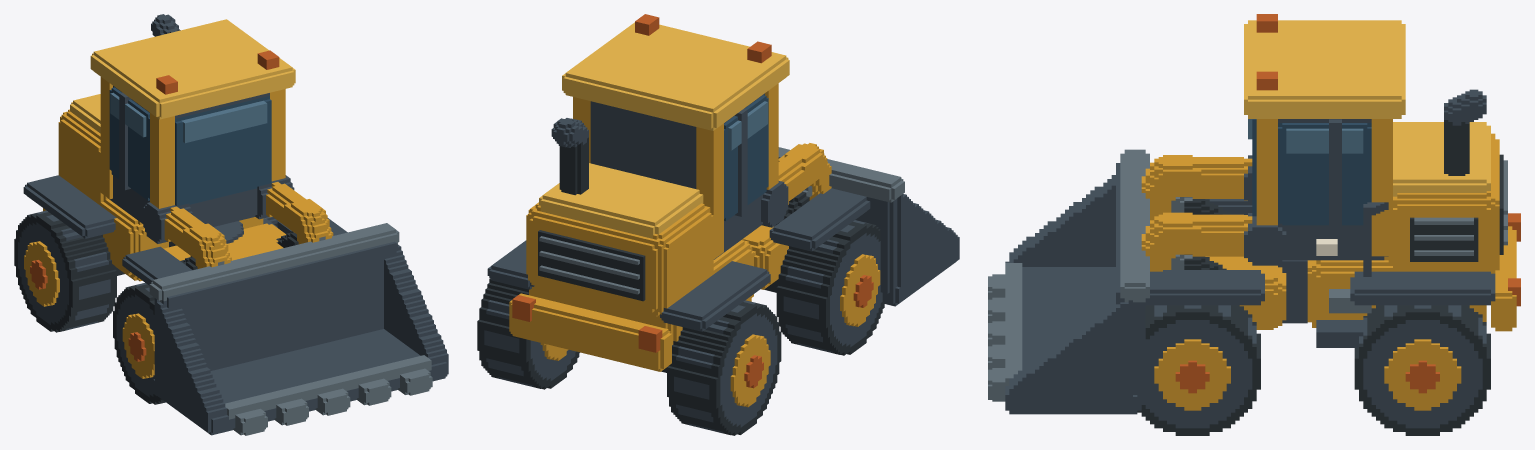
File: wheel_loader.glb
The picture shows the model from 3 angles, left to right: view 1: azimuth 30°, elevation 25°; view 2: azimuth 150°, elevation 25°; view 3: azimuth 270°, elevation 25°; orthographic projection. The views are drawn at different scales.
Parts seen in each view (by area): view 1: wheel_loader; view 2: wheel_loader; view 3: wheel_loader.
Part boxes in pixels (<box>): wheel_loader: <box>14,14,448,435</box>; wheel_loader: <box>477,14,959,435</box>; wheel_loader: <box>988,14,1520,435</box>.
Bounding box in the file's own units: 3.8 × 4.25 × 6.25.
